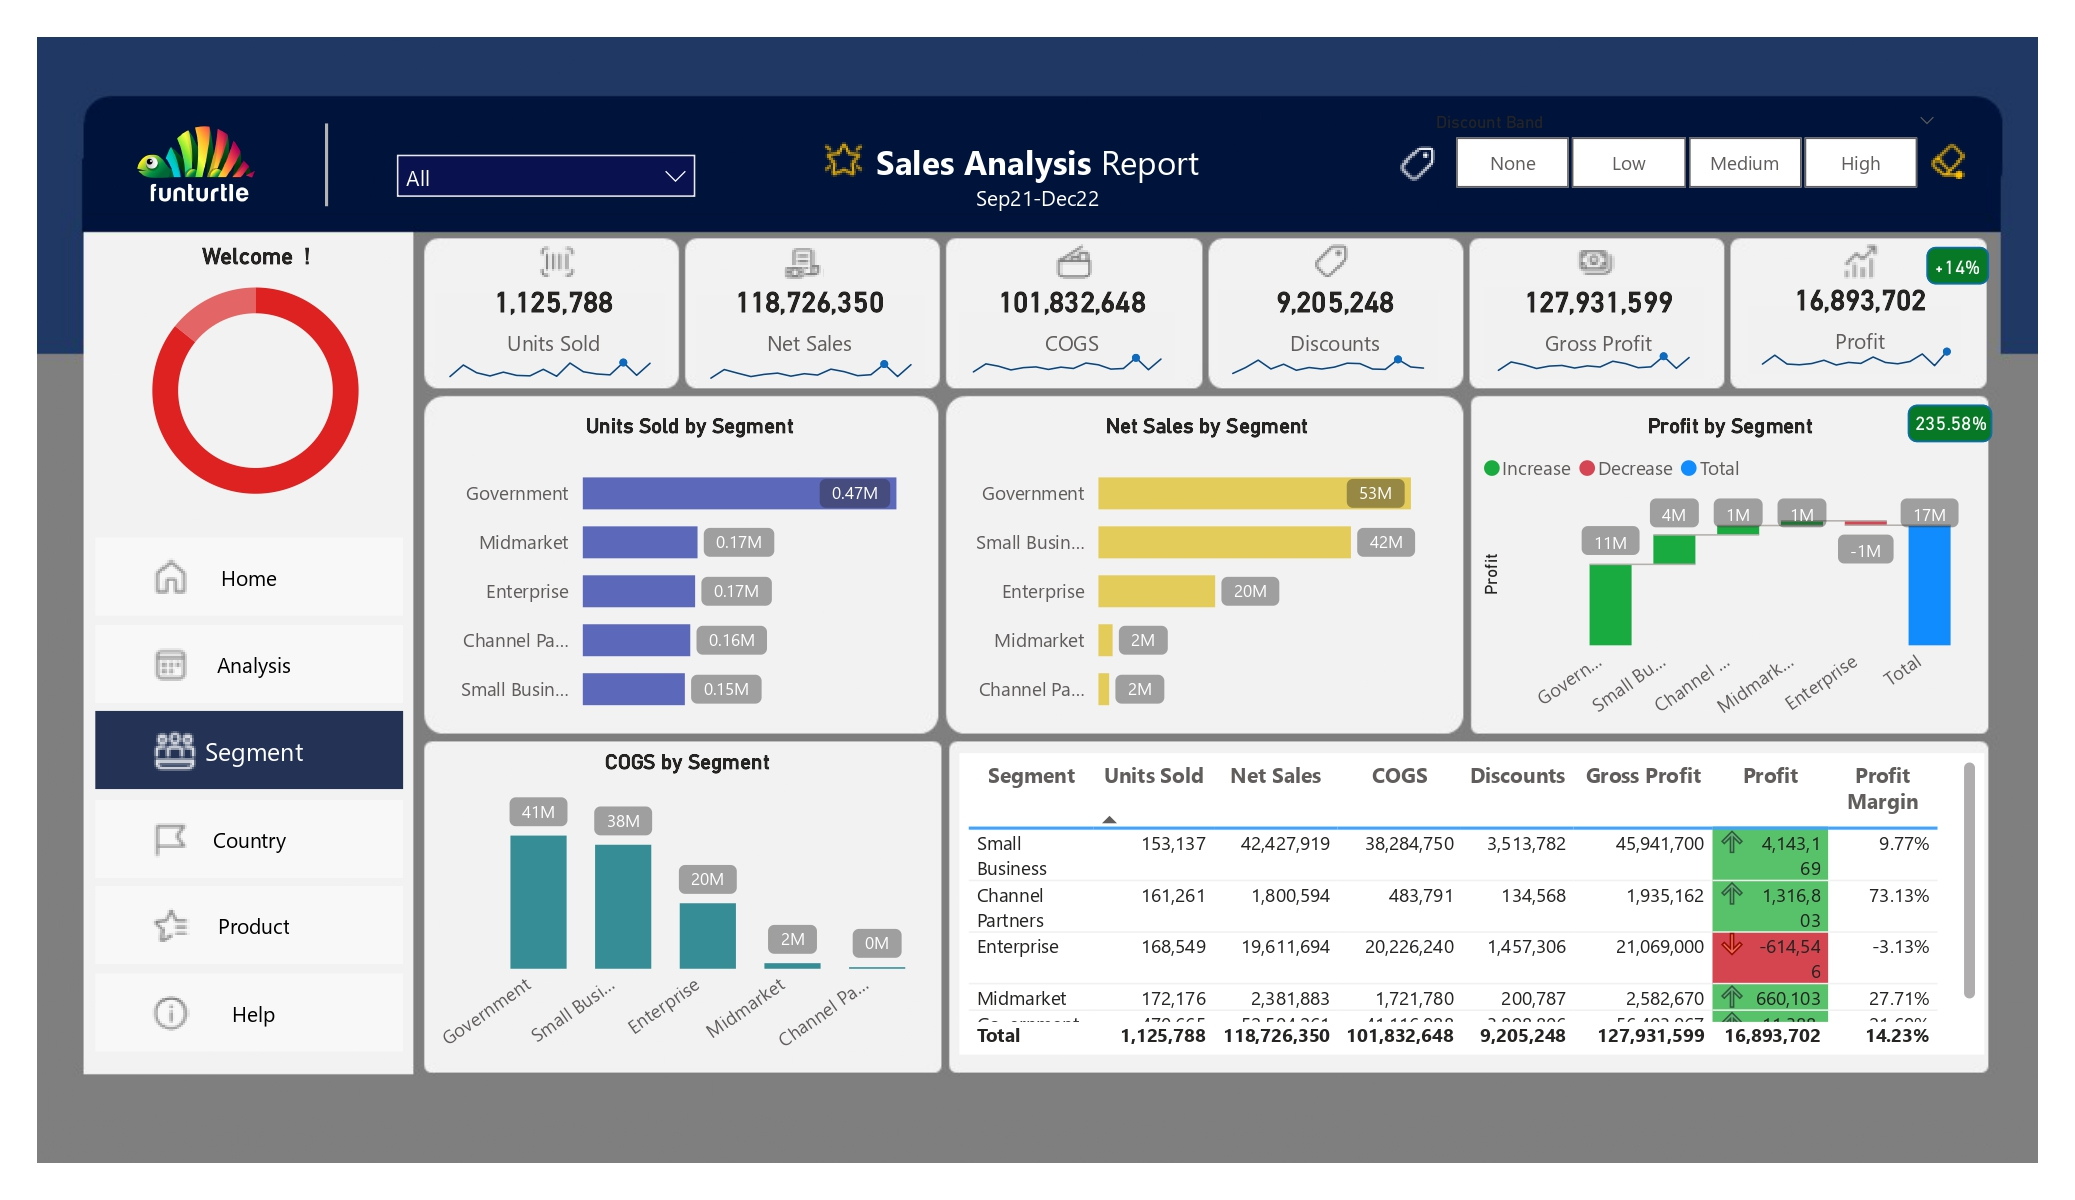

Layout of this report page (visuals, bound fields, positions):
{"tool":"powerbi","page":{"name":"Segment","canvas":[1280,720],"ordinal":2},"visuals":[{"type":"shape","box":[1197.5,235.4,53.2,24.1],"z":0},{"type":"shape","box":[1208.9,134.2,40.5,24.1],"z":1000},{"type":"tableEx","fields":{"Values":["SparklineData(_Calculations.Profit_[Calender.MonthInCalendar])"]},"box":[1088.5,167.2,163,59.5],"z":2000},{"type":"tableEx","fields":{"Values":["SparklineData(_Calculations.Gross Profit_[Calender.MonthInCalendar])"]},"box":[920,154.7,161.4,78.6],"z":3000},{"type":"tableEx","fields":{"Values":["SparklineData(_Calculations.Discounts_[Calender.MonthInCalendar])"]},"box":[750,157.1,161.4,78.6],"z":4000},{"type":"tableEx","fields":{"Values":["SparklineData(_Calculations.Net Sales_[Calender.MonthInCalendar])"]},"box":[415.7,160.4,167.1,68.6],"z":5000},{"type":"tableEx","fields":{"Values":["SparklineData(_Calculations.COGS_[Calender.MonthInCalendar])"]},"box":[584.3,171.4,165.7,55.7],"z":6000},{"type":"tableEx","fields":{"Values":["SparklineData(_Calculations.Units Sold_[Calender.MonthInCalendar])"]},"box":[248.6,158.6,167.1,68.6],"z":7000},{"type":"image","box":[52.9,27.1,97.1,107.1],"z":8000},{"type":"textbox","box":[506.1,59.5,267.9,42.5],"z":9000},{"type":"textbox","box":[557,89.3,165.8,45.4],"z":10000},{"type":"slicer","fields":{"Values":["Managers.First Name"]},"box":[219.7,65.2,211.2,46.8],"z":11000},{"type":"shape","box":[150.2,55.3,69.4,52.4],"z":12000},{"type":"actionButton","box":[498.9,60.9,38.3,34],"z":13000},{"type":"slicer","fields":{"Values":["Sales.Discount Band"]},"box":[881.6,42.5,345.8,60.9],"z":14000},{"type":"actionButton","box":[866,63.8,38.3,34],"z":15000},{"type":"actionButton","box":[1206.1,62.4,38.3,34],"z":16000},{"type":"card","fields":{"Values":["_Calculations.Units Sold"]},"box":[254.3,150.4,152.9,55.7],"z":17000},{"type":"card","fields":{"Values":["_Calculations.Gross Profit"]},"box":[918.3,150.4,161.4,55.7],"z":18000},{"type":"card","fields":{"Values":["_Calculations.Discounts"]},"box":[749.4,150.4,162.9,55.7],"z":19000},{"type":"card","fields":{"Values":["_Calculations.COGS"]},"box":[580.6,150.4,162.9,55.7],"z":20000},{"type":"card","fields":{"Values":["_Calculations.Profit"]},"box":[1085.7,149.4,161.4,55.7],"z":21000},{"type":"card","fields":{"Values":["_Calculations.Net Sales"]},"box":[413.1,150.4,161.4,55.7],"z":22000},{"type":"clusteredBarChart","title":"Units Sold by Segment","fields":{"Category":["Sales.Segment"],"Y":["_Calculations.Units Sold"]},"box":[253.7,240.9,327.4,205.5],"z":23000},{"type":"clusteredBarChart","title":"Net Sales by Segment","fields":{"Category":["Sales.Segment"],"Y":["_Calculations.Net Sales"]},"box":[583.9,240.9,328.8,205.5],"z":24000},{"type":"waterfallChart","title":"Profit by Segment","fields":{"Category":["Sales.Segment"],"Y":["_Calculations.Profit"]},"box":[919.8,240.9,327.4,205.5],"z":25000},{"type":"clusteredColumnChart","title":"COGS by Segment","fields":{"Category":["Sales.Segment"],"Y":["_Calculations.COGS"]},"box":[248,456.4,335.9,204.1],"z":26000},{"type":"tableEx","fields":{"Values":["Sales.Segment","_Calculations.Units Sold","_Calculations.Net Sales","_Calculations.COGS","_Calculations.Discounts","_Calculations.Gross Profit","_Calculations.Profit","_Calculations.Profit Margin"]},"box":[589.6,457.8,656.2,192.8],"z":27000},{"type":"actionButton","box":[315.7,127.1,38.6,32.9],"z":28000},{"type":"actionButton","box":[474.3,127.1,38.6,32.9],"z":29000},{"type":"actionButton","box":[647.1,127.1,38.6,32.9],"z":30000},{"type":"actionButton","box":[811.4,127.1,38.6,32.9],"z":31000},{"type":"actionButton","box":[981.4,127.1,38.6,32.9],"z":32000},{"type":"actionButton","box":[1150,127.1,38.6,32.9],"z":33000},{"type":"donutChart","fields":{"Y":["_Calculations.Cost to Sales%","_Calculations.Profit Margin"]},"box":[52.4,137.5,174.3,177.2],"z":34000},{"type":"card","fields":{"Values":["_Calculations.Greetings"]},"box":[48.2,107.7,182.8,66.6],"z":35000},{"type":"card","fields":{"Values":["_Calculations.Profit Margin Format"]},"box":[1206.3,134.2,44.3,25.3],"z":36000},{"type":"card","fields":{"Values":["_Calculations.Profit YoY%"]},"box":[1192.4,234.2,64.6,25.3],"z":37000},{"type":"actionButton","box":[37.1,320,197.1,50],"z":38000},{"type":"actionButton","box":[37.1,375.7,197.1,50],"z":39000},{"type":"actionButton","box":[37.1,431.4,197.1,50],"z":40000},{"type":"actionButton","box":[37.3,487.8,197.1,50],"z":41000},{"type":"actionButton","box":[37.3,543.5,197.1,50],"z":42000},{"type":"actionButton","box":[37.3,599.2,197.1,50],"z":43000}]}

Visuals, with their boxes on the page's 1280x720 design canvas (x1, y1, x2, y2). These are canvas units, not pixel positions in the 2075x1200 screenshot, which may show the page scaled, cropped or inside an application window:
shape: [x1=1198, y1=235, x2=1251, y2=260]
shape: [x1=1209, y1=134, x2=1249, y2=158]
tableEx - SparklineData(_Calculations.Profit_[Calender.MonthInCalendar]): [x1=1088, y1=167, x2=1252, y2=227]
tableEx - SparklineData(_Calculations.Gross Profit_[Calender.MonthInCalendar]): [x1=920, y1=155, x2=1081, y2=233]
tableEx - SparklineData(_Calculations.Discounts_[Calender.MonthInCalendar]): [x1=750, y1=157, x2=911, y2=236]
tableEx - SparklineData(_Calculations.Net Sales_[Calender.MonthInCalendar]): [x1=416, y1=160, x2=583, y2=229]
tableEx - SparklineData(_Calculations.COGS_[Calender.MonthInCalendar]): [x1=584, y1=171, x2=750, y2=227]
tableEx - SparklineData(_Calculations.Units Sold_[Calender.MonthInCalendar]): [x1=249, y1=159, x2=416, y2=227]
image: [x1=53, y1=27, x2=150, y2=134]
textbox: [x1=506, y1=60, x2=774, y2=102]
textbox: [x1=557, y1=89, x2=723, y2=135]
slicer - Managers.First Name: [x1=220, y1=65, x2=431, y2=112]
shape: [x1=150, y1=55, x2=220, y2=108]
actionButton: [x1=499, y1=61, x2=537, y2=95]
slicer - Sales.Discount Band: [x1=882, y1=42, x2=1227, y2=103]
actionButton: [x1=866, y1=64, x2=904, y2=98]
actionButton: [x1=1206, y1=62, x2=1244, y2=96]
card - _Calculations.Units Sold: [x1=254, y1=150, x2=407, y2=206]
card - _Calculations.Gross Profit: [x1=918, y1=150, x2=1080, y2=206]
card - _Calculations.Discounts: [x1=749, y1=150, x2=912, y2=206]
card - _Calculations.COGS: [x1=581, y1=150, x2=744, y2=206]
card - _Calculations.Profit: [x1=1086, y1=149, x2=1247, y2=205]
card - _Calculations.Net Sales: [x1=413, y1=150, x2=574, y2=206]
"Units Sold by Segment" clusteredBarChart: [x1=254, y1=241, x2=581, y2=446]
"Net Sales by Segment" clusteredBarChart: [x1=584, y1=241, x2=913, y2=446]
"Profit by Segment" waterfallChart: [x1=920, y1=241, x2=1247, y2=446]
"COGS by Segment" clusteredColumnChart: [x1=248, y1=456, x2=584, y2=660]
tableEx - Sales.Segment x _Calculations.Units Sold: [x1=590, y1=458, x2=1246, y2=651]
actionButton: [x1=316, y1=127, x2=354, y2=160]
actionButton: [x1=474, y1=127, x2=513, y2=160]
actionButton: [x1=647, y1=127, x2=686, y2=160]
actionButton: [x1=811, y1=127, x2=850, y2=160]
actionButton: [x1=981, y1=127, x2=1020, y2=160]
actionButton: [x1=1150, y1=127, x2=1189, y2=160]
donutChart - _Calculations.Cost to Sales% x _Calculations.Profit Margin: [x1=52, y1=138, x2=227, y2=315]
card - _Calculations.Greetings: [x1=48, y1=108, x2=231, y2=174]
card - _Calculations.Profit Margin Format: [x1=1206, y1=134, x2=1251, y2=160]
card - _Calculations.Profit YoY%: [x1=1192, y1=234, x2=1257, y2=260]
actionButton: [x1=37, y1=320, x2=234, y2=370]
actionButton: [x1=37, y1=376, x2=234, y2=426]
actionButton: [x1=37, y1=431, x2=234, y2=481]
actionButton: [x1=37, y1=488, x2=234, y2=538]
actionButton: [x1=37, y1=544, x2=234, y2=594]
actionButton: [x1=37, y1=599, x2=234, y2=649]
